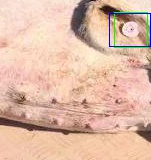text: (114, 12, 147, 47)
